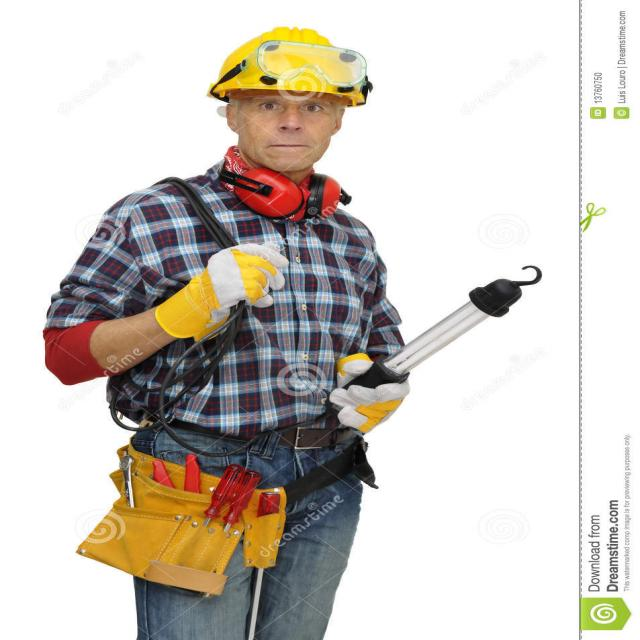Safety-Helmet: (206, 24, 370, 104)
